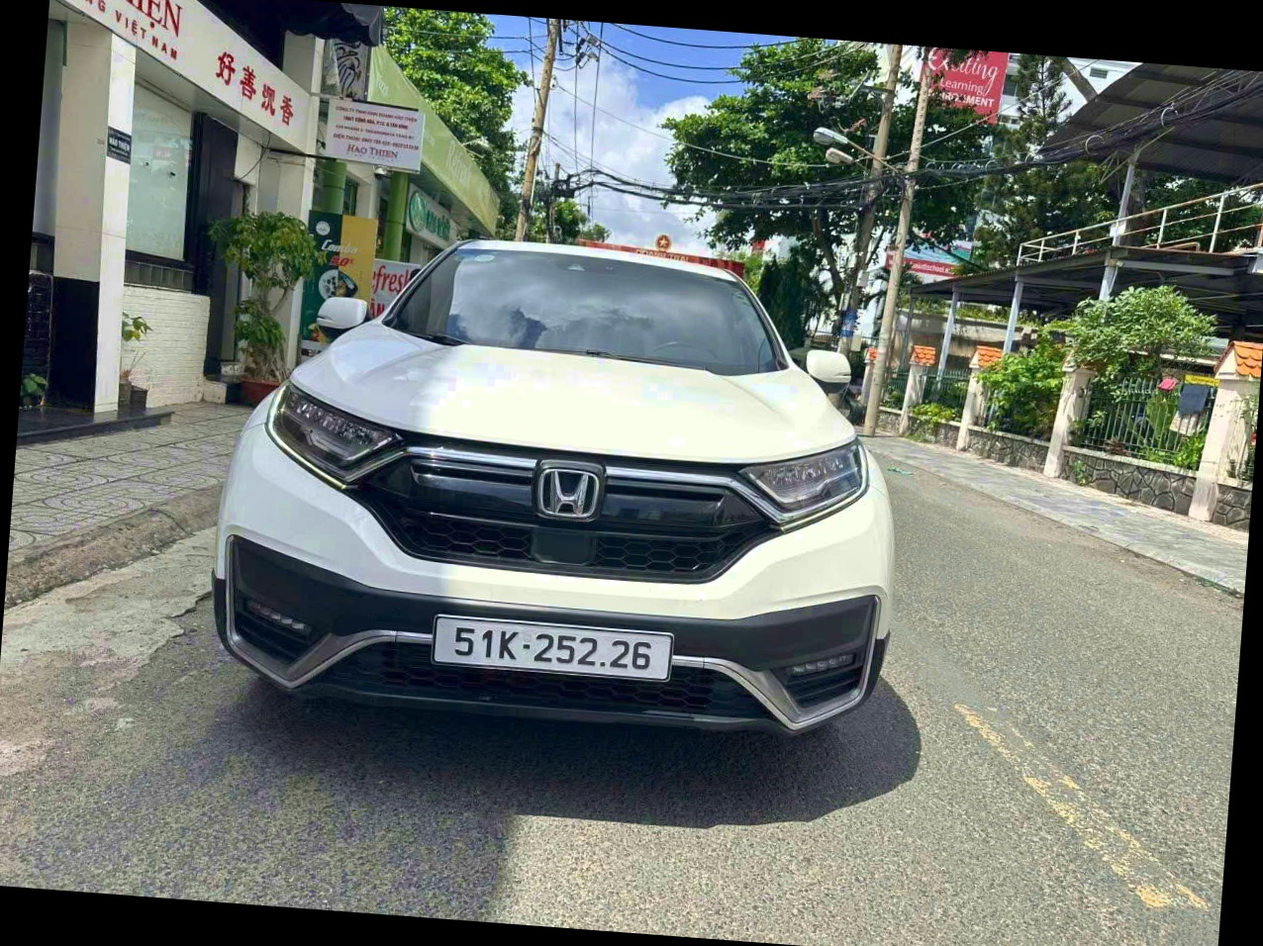Bien-so: (428, 605, 683, 685)
